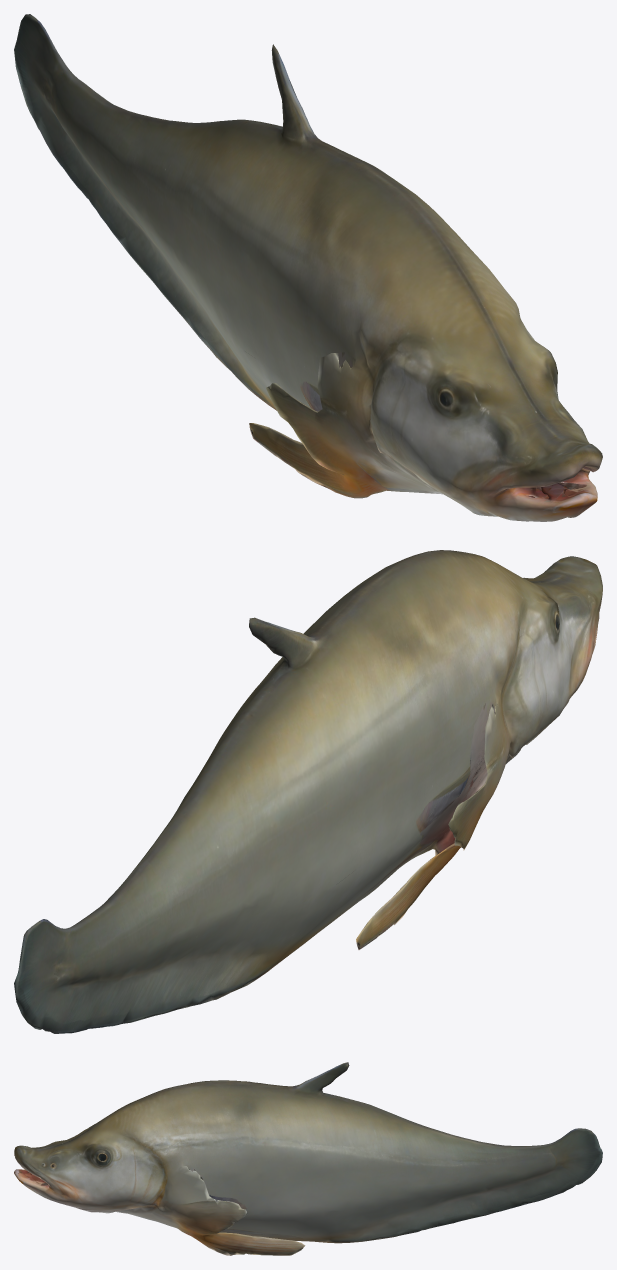
The model's file is Belida_0604063028_texture.glb.
The picture shows the model from 3 angles, top to bottom: view 1: azimuth 30°, elevation 25°; view 2: azimuth 150°, elevation 25°; view 3: azimuth 270°, elevation 25°; orthographic projection. The views are drawn at different scales.
Size of the model in its own units: 0.37 by 0.6979 by 2.
Materials: 1 (1 with a texture image).
